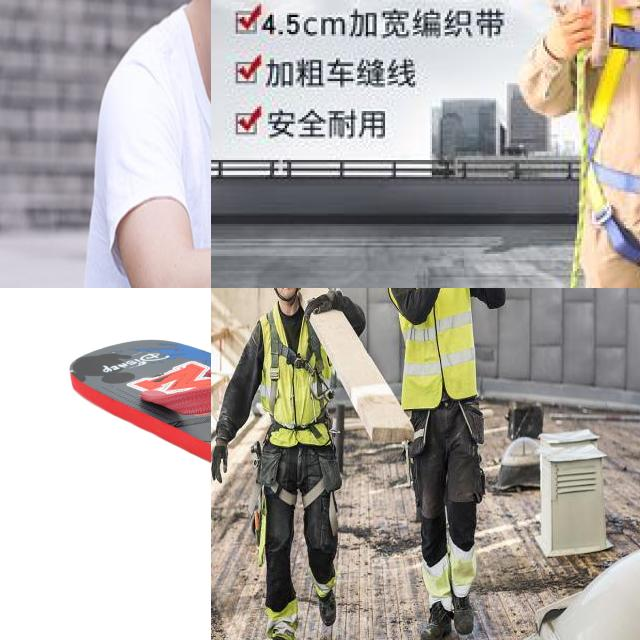Harness: (572, 0, 640, 277)
Sandals: (67, 338, 211, 503)
boots: (414, 594, 456, 640), (312, 581, 345, 636), (451, 591, 481, 640), (251, 624, 305, 640)
person: (362, 288, 532, 640), (211, 288, 371, 640), (84, 0, 211, 288)
vest: (251, 291, 346, 453), (382, 288, 493, 419)
